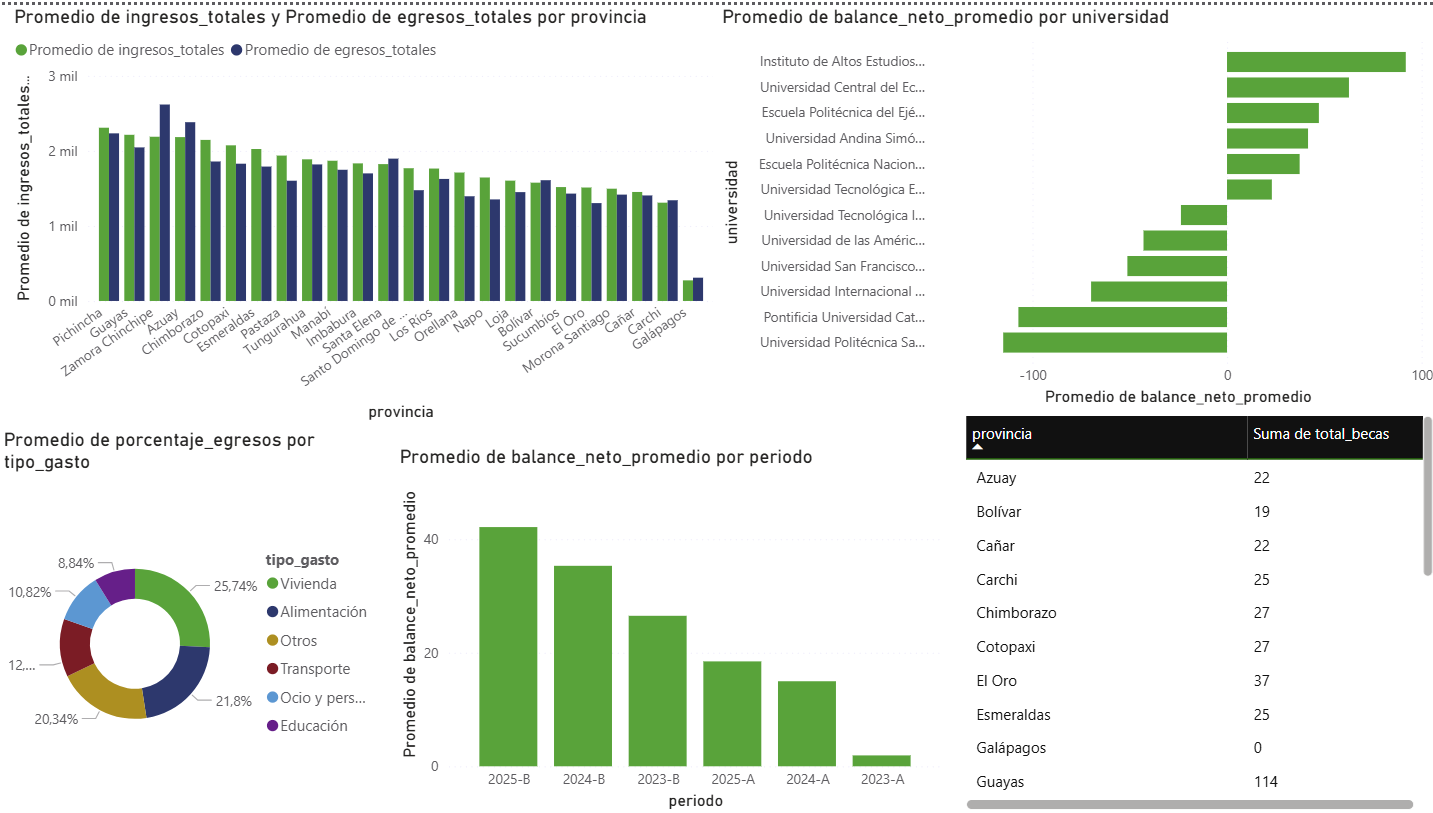

The dashboard page shown, as its layout file describes it:
{"tool":"powerbi","page":{"name":"Economía Foráneos","canvas":[1280,720],"ordinal":1},"visuals":[{"type":"clusteredColumnChart","fields":{"Category":["vw_dash2_chart1.provincia"],"Y":["Avg(vw_dash2_chart1.ingresos_totales)","Avg(vw_dash2_chart1.egresos_totales)"]},"box":[0,0,640,374.3],"z":0},{"type":"barChart","fields":{"Category":["vw_dash2_chart2.universidad"],"Y":["Avg(vw_dash2_chart2.balance_neto_promedio)"]},"box":[638.6,0,641.4,374.3],"z":1000},{"type":"tableEx","title":"Becas por provinvia","fields":{"Values":["vw_dash2_chart3.provincia","Sum(vw_dash2_chart3.total_becas)"]},"box":[854.3,374.3,425.7,345.7],"z":2000},{"type":"donutChart","fields":{"Category":["vw_dash2_chart4.tipo_gasto"],"Y":["Avg(vw_dash2_chart4.porcentaje_egresos)"]},"box":[0,375.7,352.9,344.3],"z":3000},{"type":"lineClusteredColumnComboChart","fields":{"Category":["vw_dash2_chart5.periodo"],"Y":["Avg(vw_dash2_chart5.balance_neto_promedio)"]},"box":[352.9,374.3,501.4,345.7],"z":4000}]}

Visuals, with their boxes in screenshot pixels (x1, y1, x2, y2), scaled from the page's 1280x720 canvas onto the 1433x813 screenshot:
clusteredColumnChart - vw_dash2_chart1.provincia x Avg(vw_dash2_chart1.ingresos_totales): [x1=0, y1=0, x2=716, y2=423]
barChart - vw_dash2_chart2.universidad x Avg(vw_dash2_chart2.balance_neto_promedio): [x1=715, y1=0, x2=1432, y2=423]
"Becas por provinvia" tableEx: [x1=956, y1=423, x2=1432, y2=812]
donutChart - vw_dash2_chart4.tipo_gasto x Avg(vw_dash2_chart4.porcentaje_egresos): [x1=0, y1=424, x2=395, y2=812]
lineClusteredColumnComboChart - vw_dash2_chart5.periodo x Avg(vw_dash2_chart5.balance_neto_promedio): [x1=395, y1=423, x2=956, y2=812]
